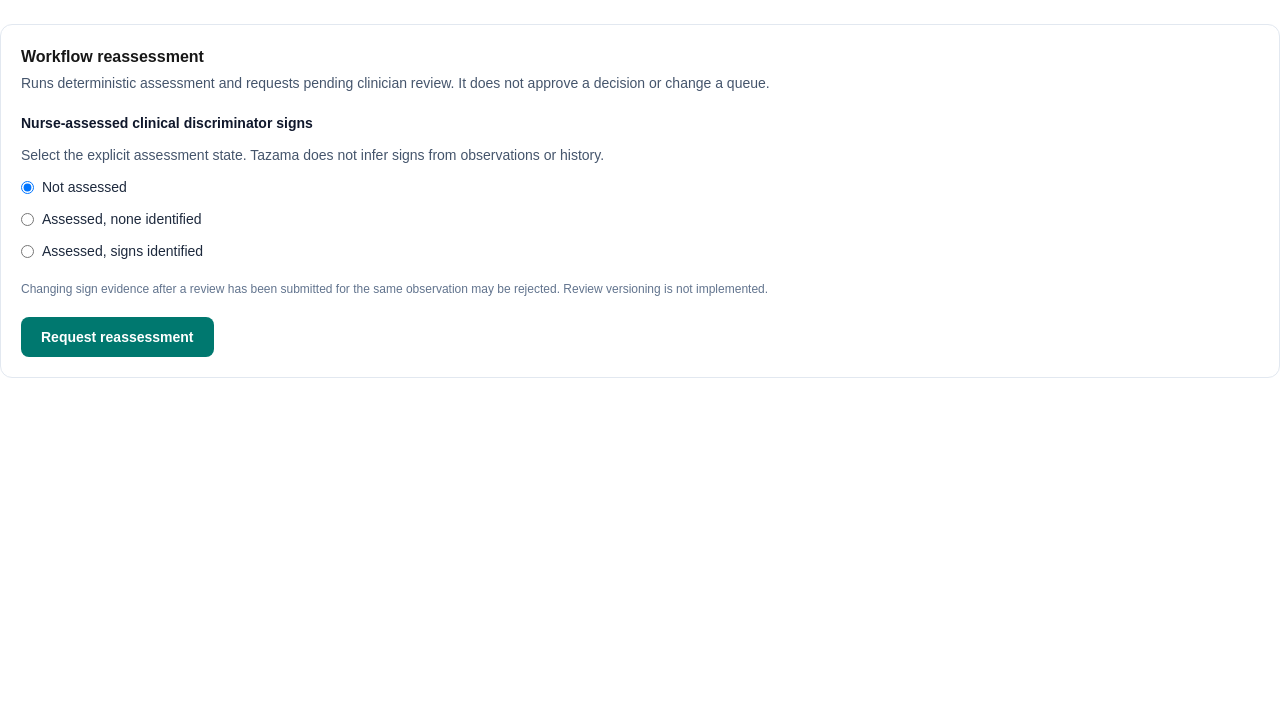
Test: ReassessmentPanel › shows optional explanation unavailability
The image size is (1280, 720).
Click the button "Request reassessment".
click(117, 337)  # box [21,317,214,357]
(page scrolled)
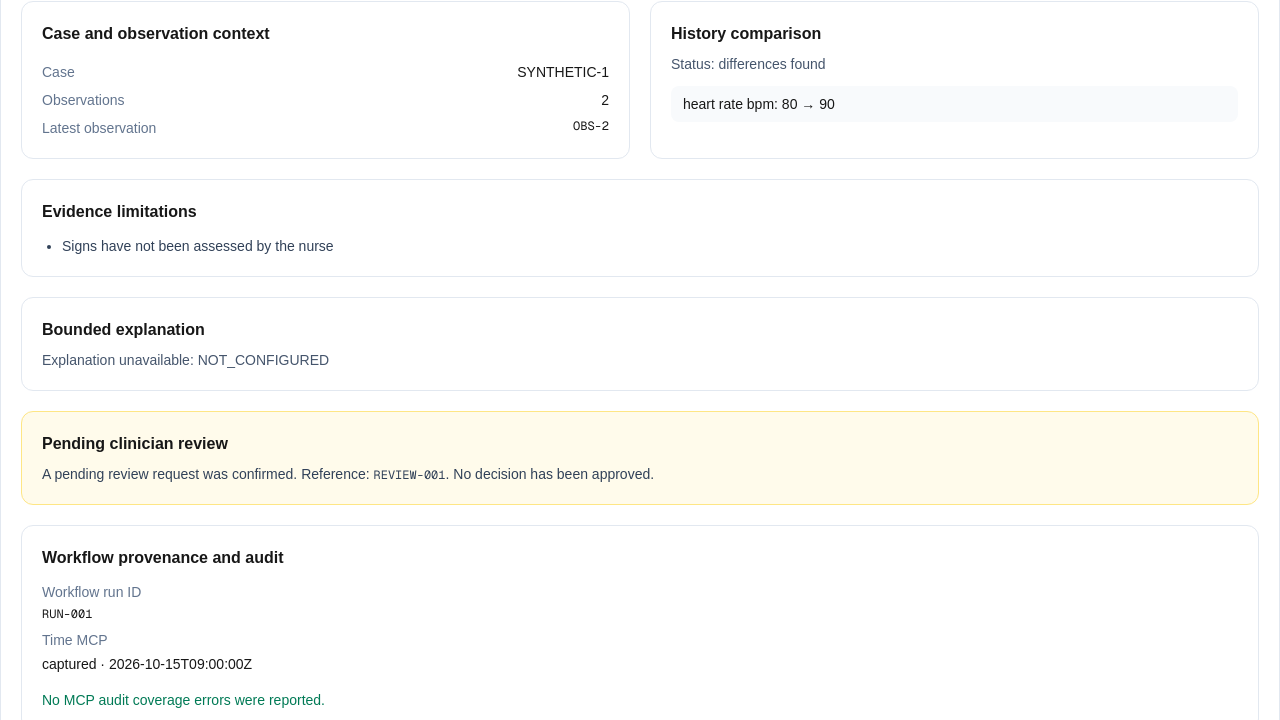
Result: the text "Explanation unavailable: NOT_CONFIGURED" is shown at [42,352,329,368]
